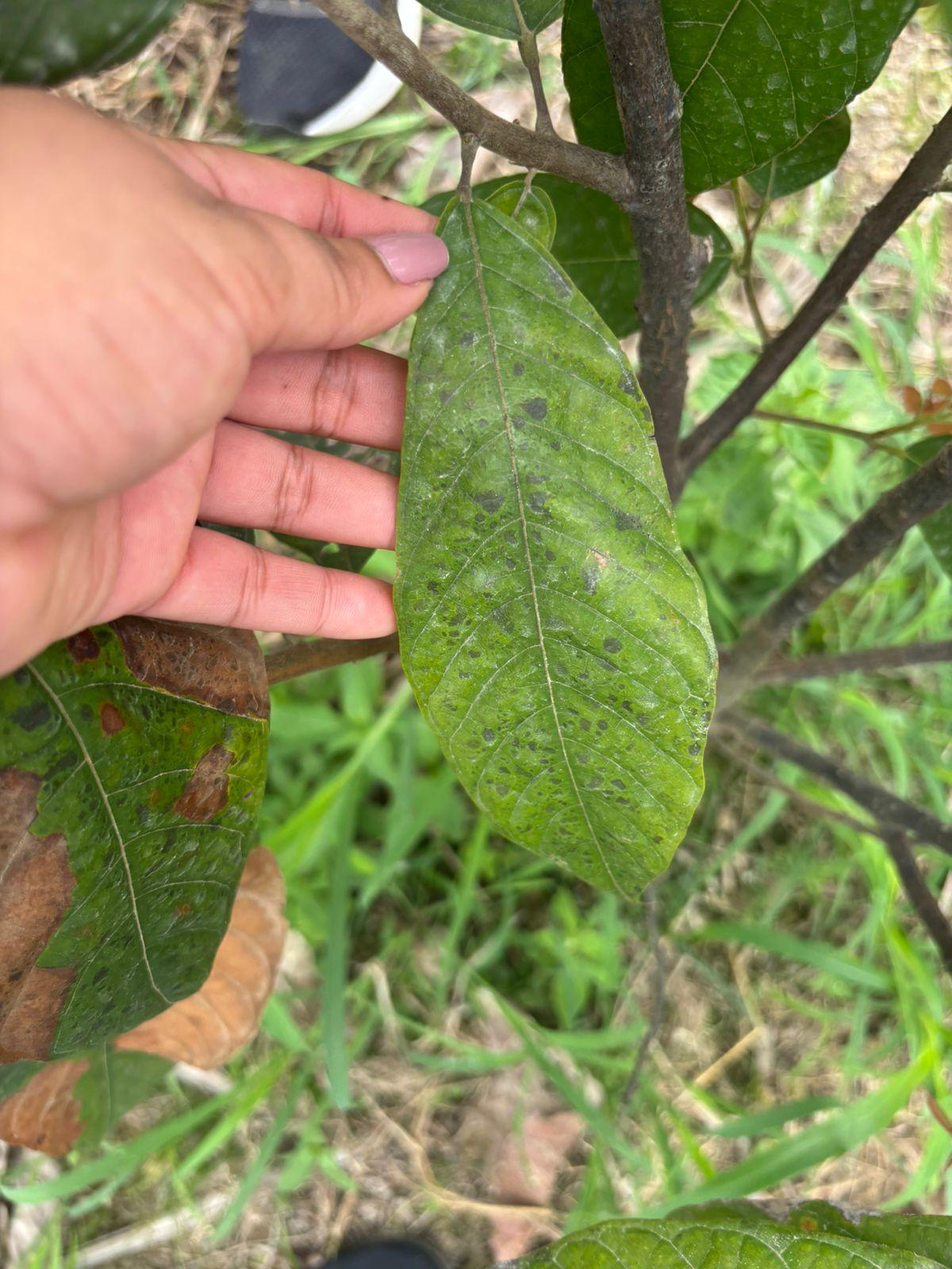deficienciia_fosforo: (394, 195, 715, 894)
